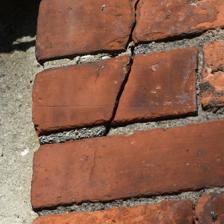Crack: (99, 4, 149, 142)
